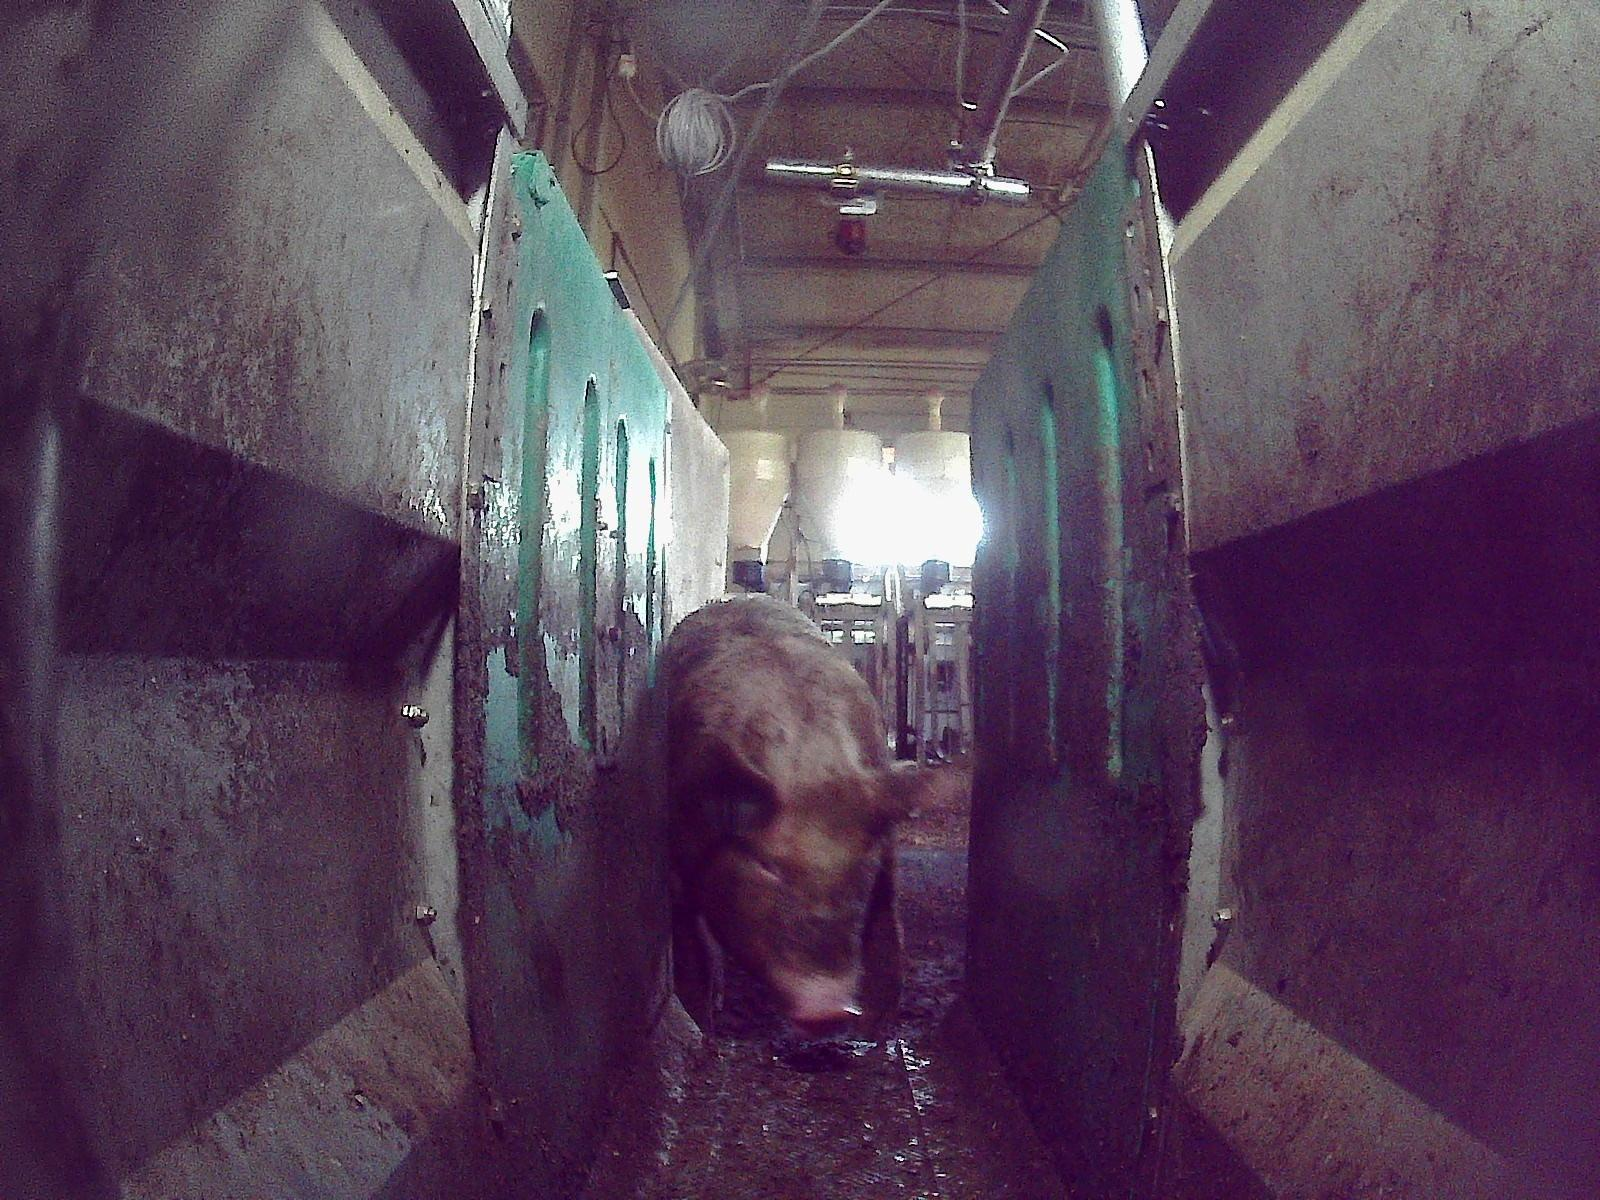Face: (733, 792, 888, 1034)
